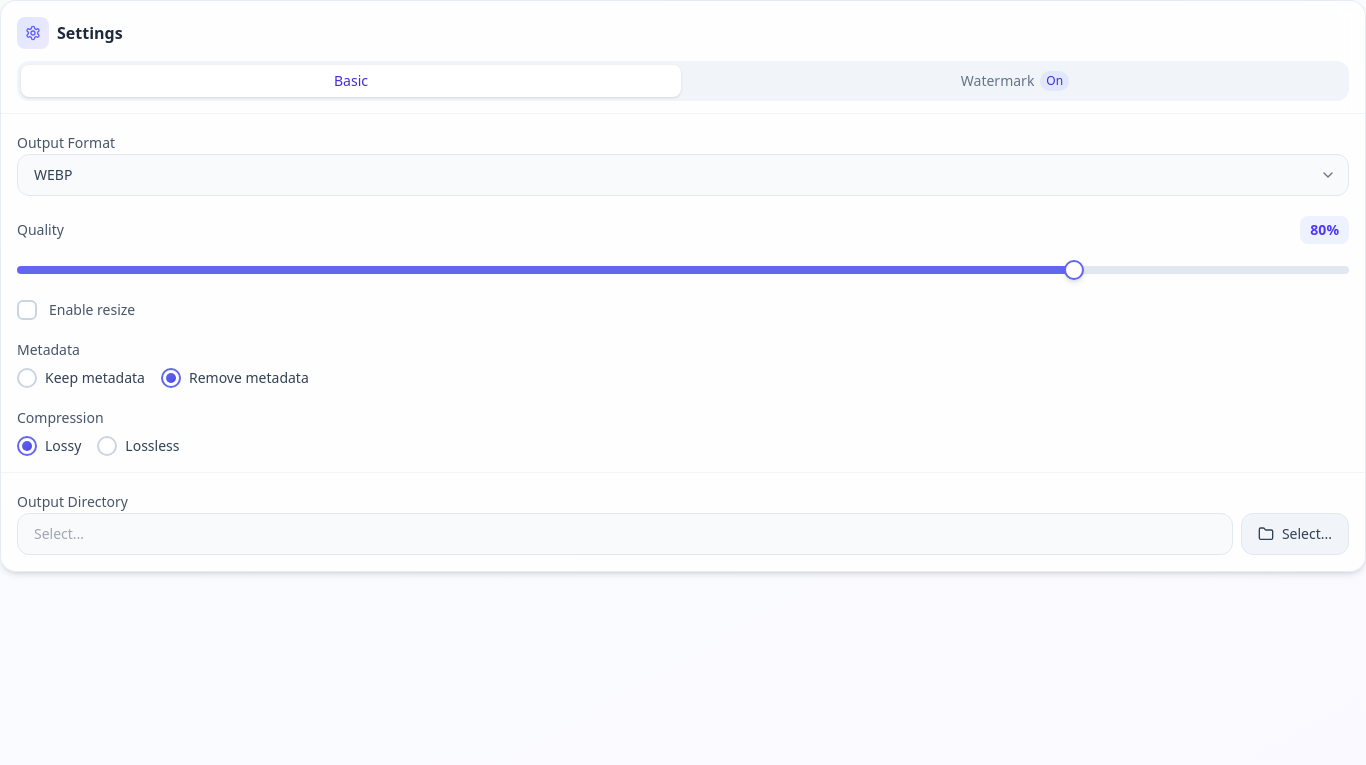
SettingsPanel › ウォーターマーク › 敷き詰め › 敷き詰めにすると間隔と角度が出て、位置と余白は消える
Click the tab "Watermark On": click(1015, 81) [685,65,1345,97]
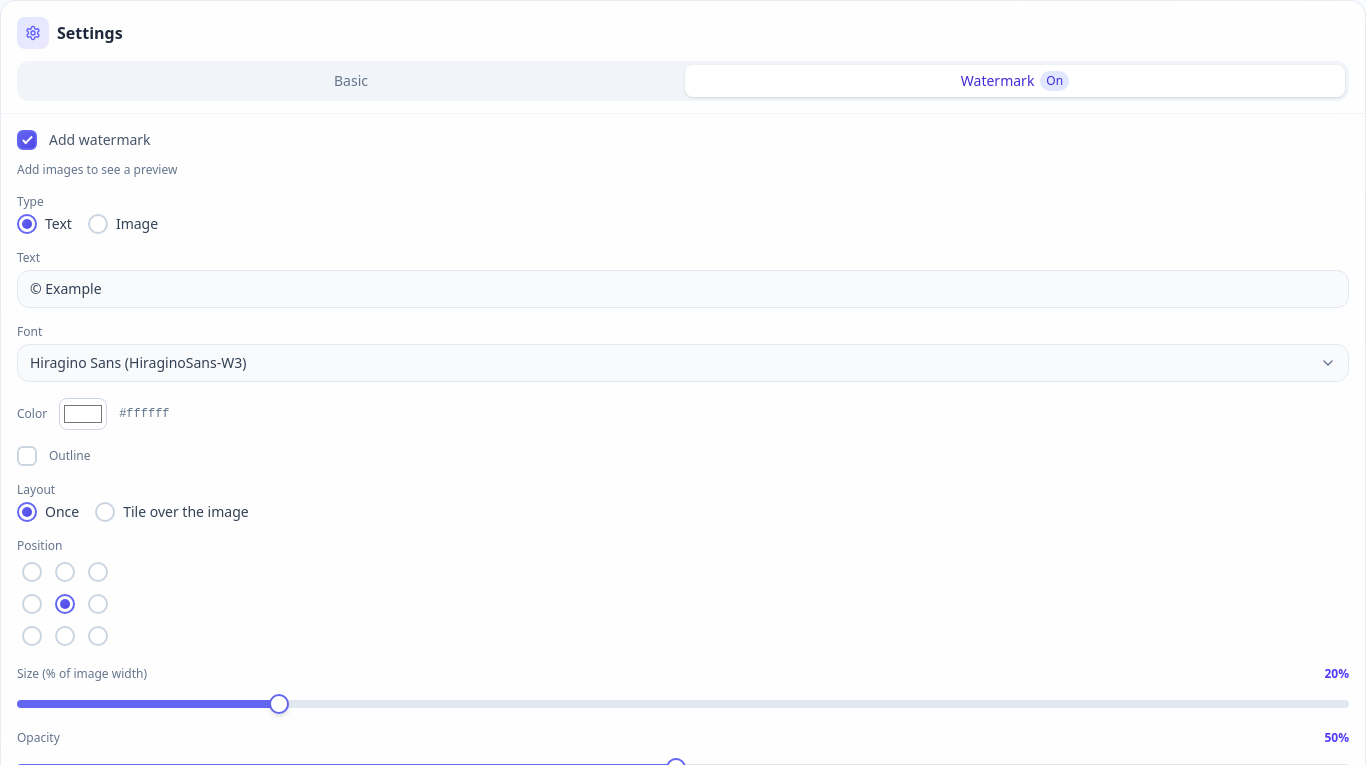
Click the radio button labelled "Tile over the image": click(105, 512) [95,502,115,522]
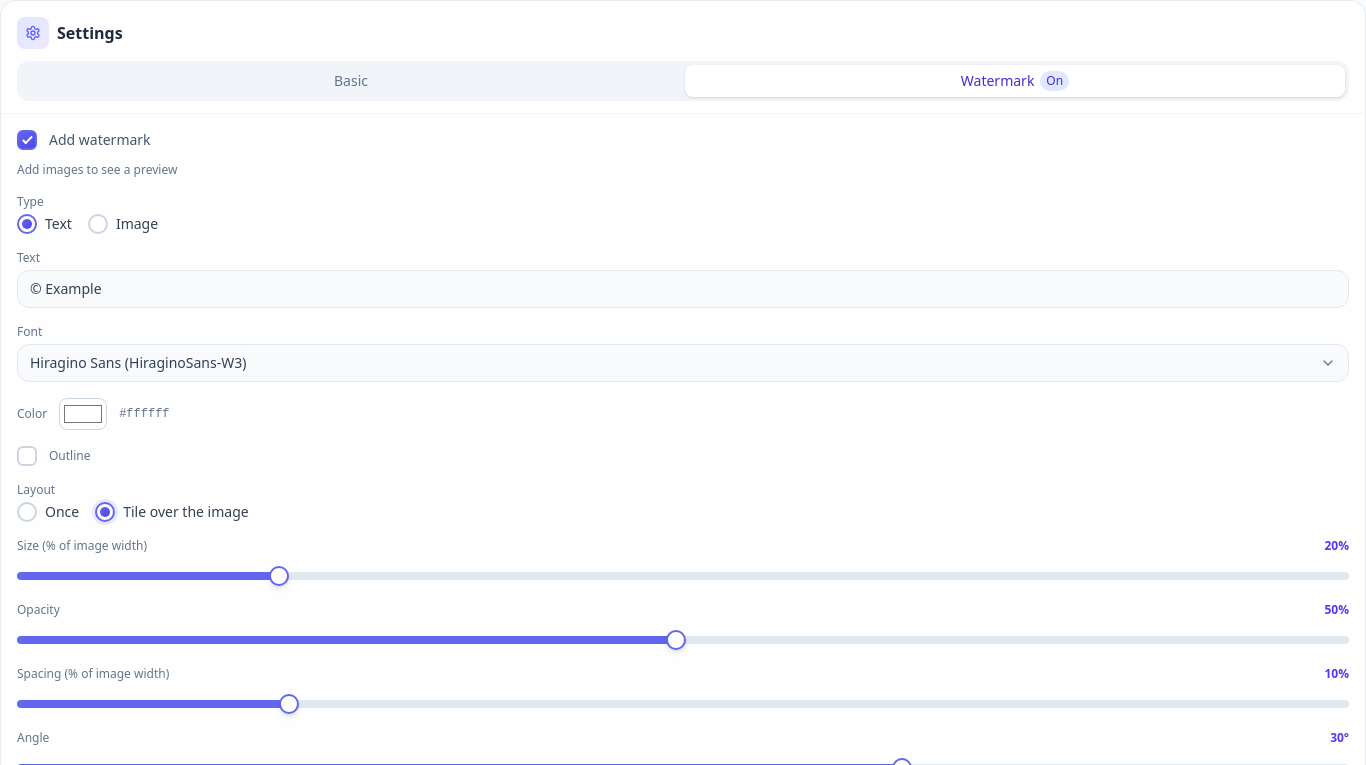
Check: the slider labelled "Size (% of image width)" is shown, box [17,572,1349,580]
Check: the slider labelled "Opacity" is shown, box [17,636,1349,644]
Check: the text "Position" is gone
